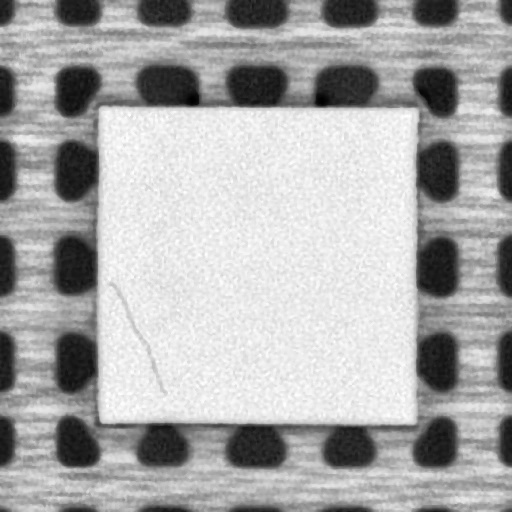DIE_CRACK: (108, 280, 168, 396)
